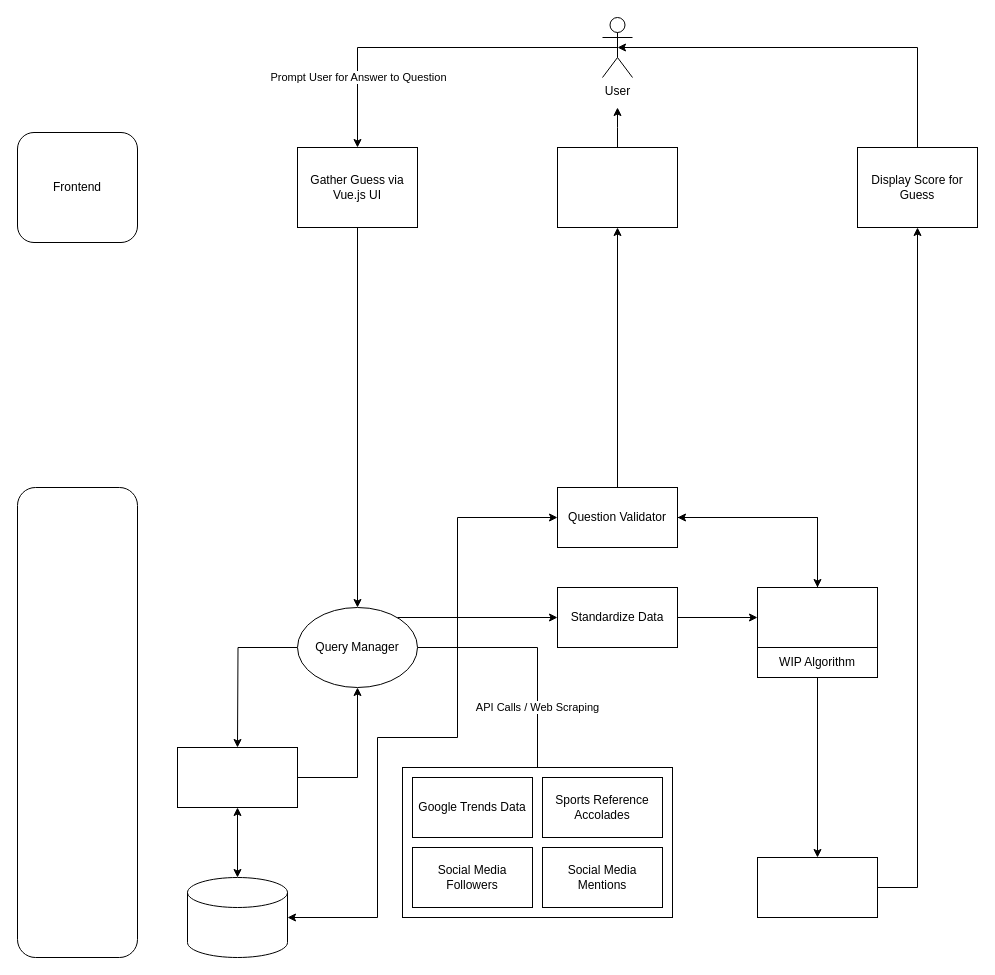
This 995x975 diagram has some shape labels left out. Each missing label, with the centre of its shape:
Athlete DB: [237,917]
Backend Processes: [77,722]
Guess Validator: [237,777]
Obscurity Engine: [817,617]
Prompt Question to User: [617,187]
Score Converter: [817,887]
